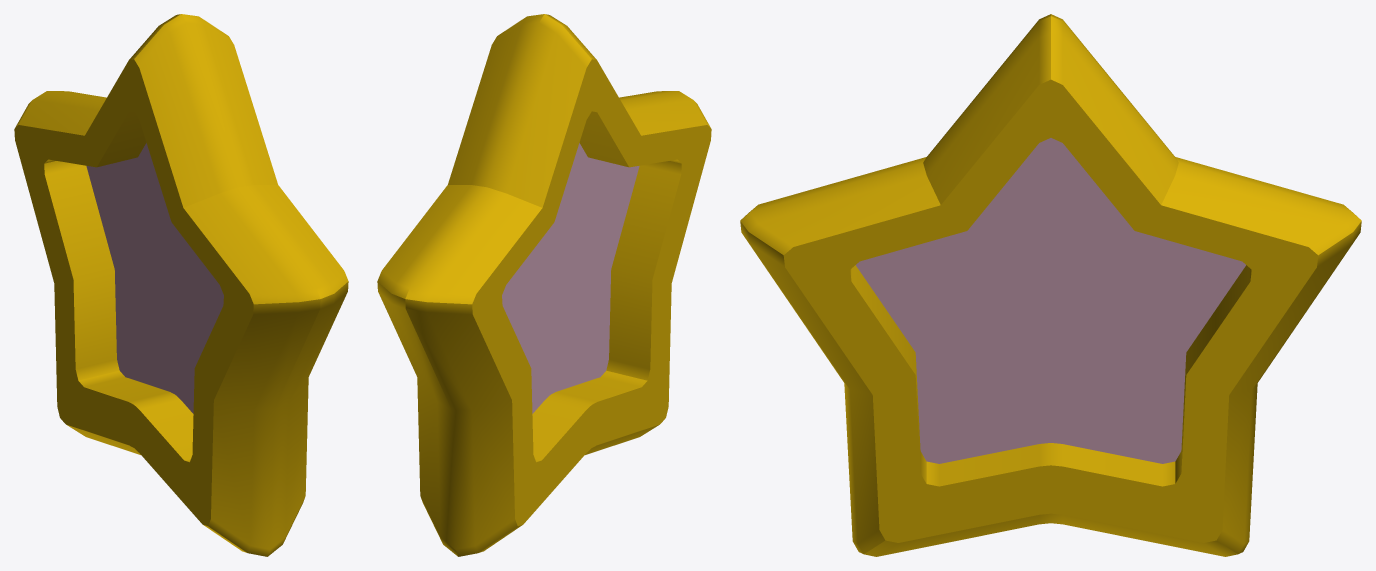
Rendered from Star.fbx.
3 renders of one model, left to right at view 1: azimuth 30°, elevation 25°; view 2: azimuth 150°, elevation 25°; view 3: azimuth 270°, elevation 25°, orthographic. The views are drawn at different scales.
Visible parts, largest first — view 1: pCylinder1; view 2: pCylinder1; view 3: pCylinder1.
Part boxes in pixels (x1,y1,x2,y2): pCylinder1: [14, 14, 348, 556]; pCylinder1: [377, 14, 711, 556]; pCylinder1: [740, 14, 1361, 556].
Size of the model in its own units: 0.4208 by 2.05 by 2.14.
